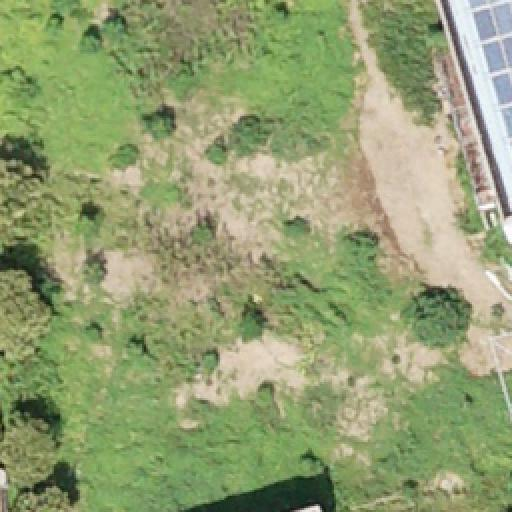solar-panel: (468, 0, 512, 144)
